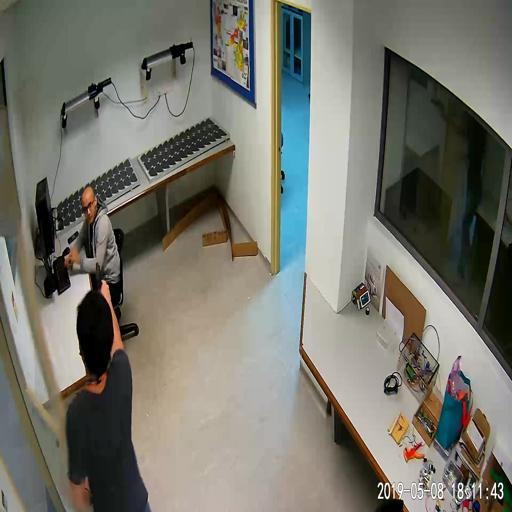pistol: (94, 261, 109, 296)
